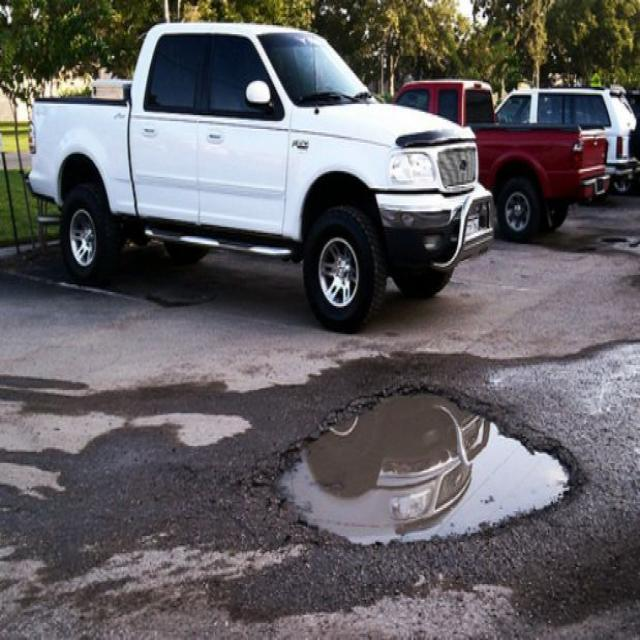Pothole: (271, 374, 583, 552)
